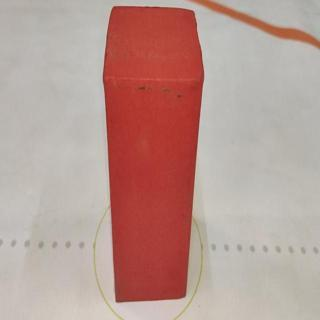redbox: (108, 5, 191, 302)
